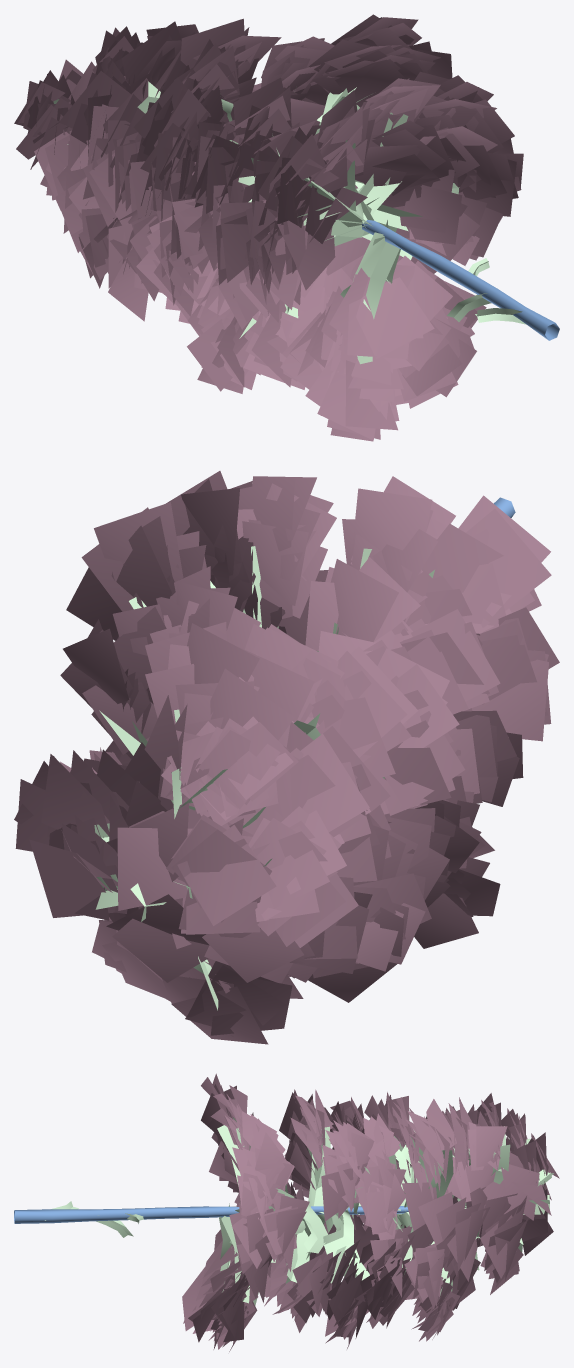
The model's file is Tree_0016.FBX.
The picture shows the model from 3 angles, top to bottom: view 1: azimuth 30°, elevation 25°; view 2: azimuth 150°, elevation 25°; view 3: azimuth 270°, elevation 25°; orthographic projection. The views are drawn at different scales.
Parts seen in each view (by area): view 1: Tree_0016_LOD0; view 2: Tree_0016_LOD0; view 3: Tree_0016_LOD0.
Part boxes in pixels (x1,y1,x2,y2): Tree_0016_LOD0: [14, 14, 559, 441]; Tree_0016_LOD0: [14, 471, 559, 1044]; Tree_0016_LOD0: [14, 1073, 559, 1351].
Bounding box in the file's own units: 515 × 959 × 508.
